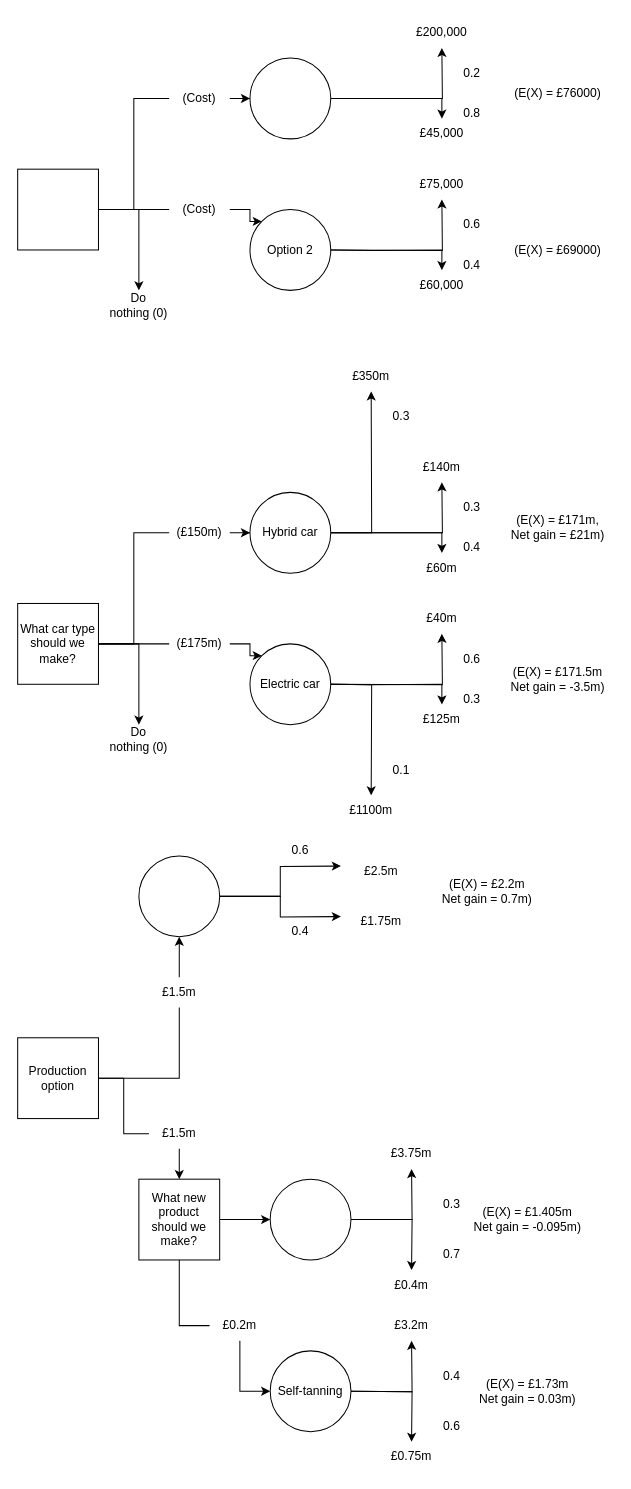
This 631x1489 diagram has some shape labels left out. Each missing label, with the centre of its shape:
Decision?: point (57, 209)
New production line: point (179, 896)
Option 1: point (290, 98)
Skincare: point (310, 1219)
